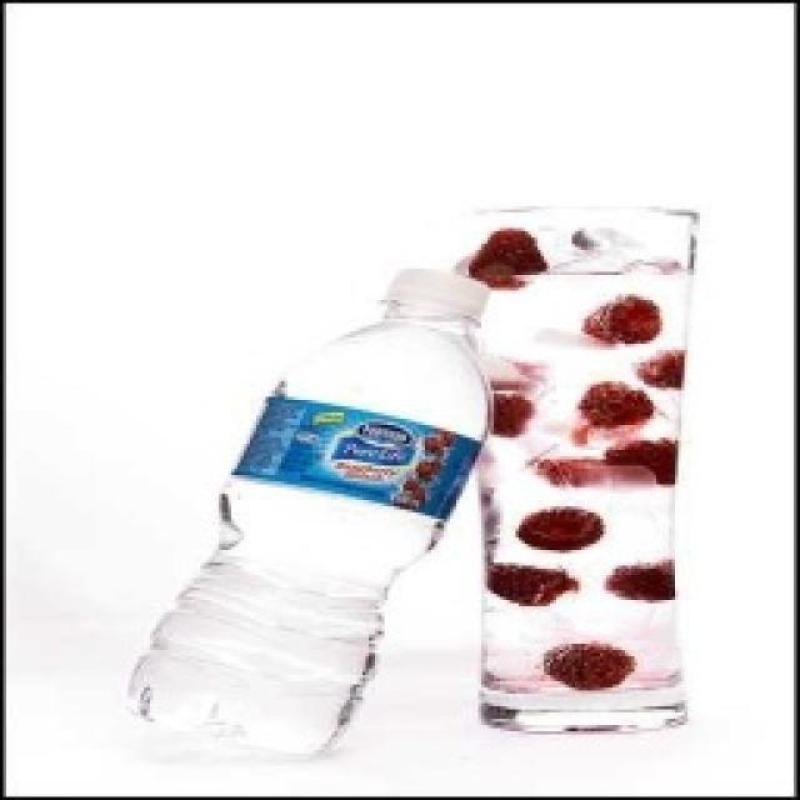botella: (128, 272, 491, 756)
